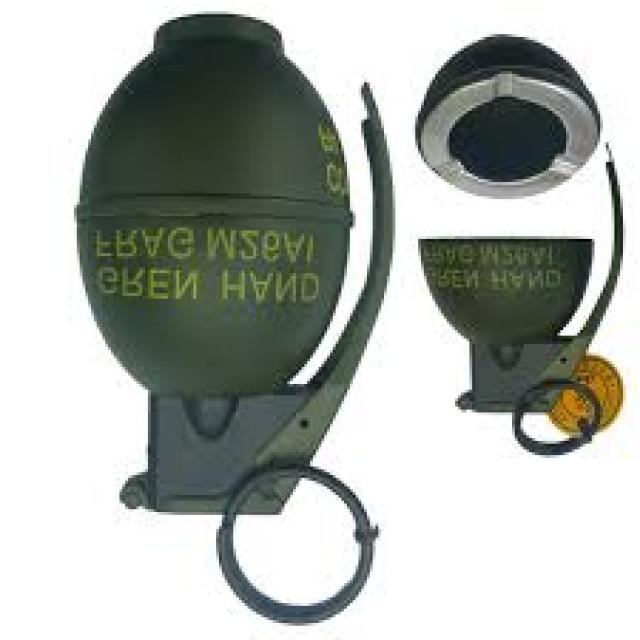grenade: (71, 4, 392, 632)
